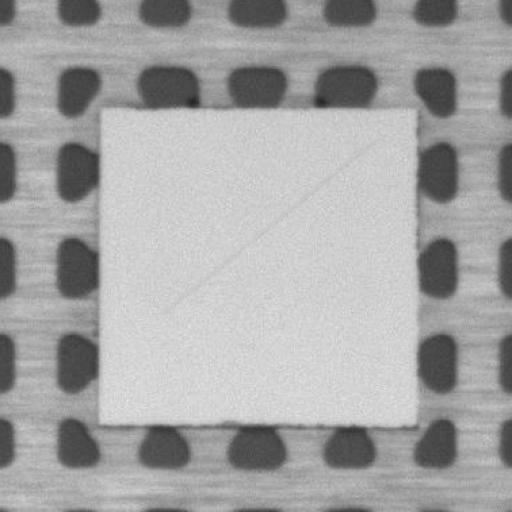DIE_CRACK: (164, 142, 370, 312)
